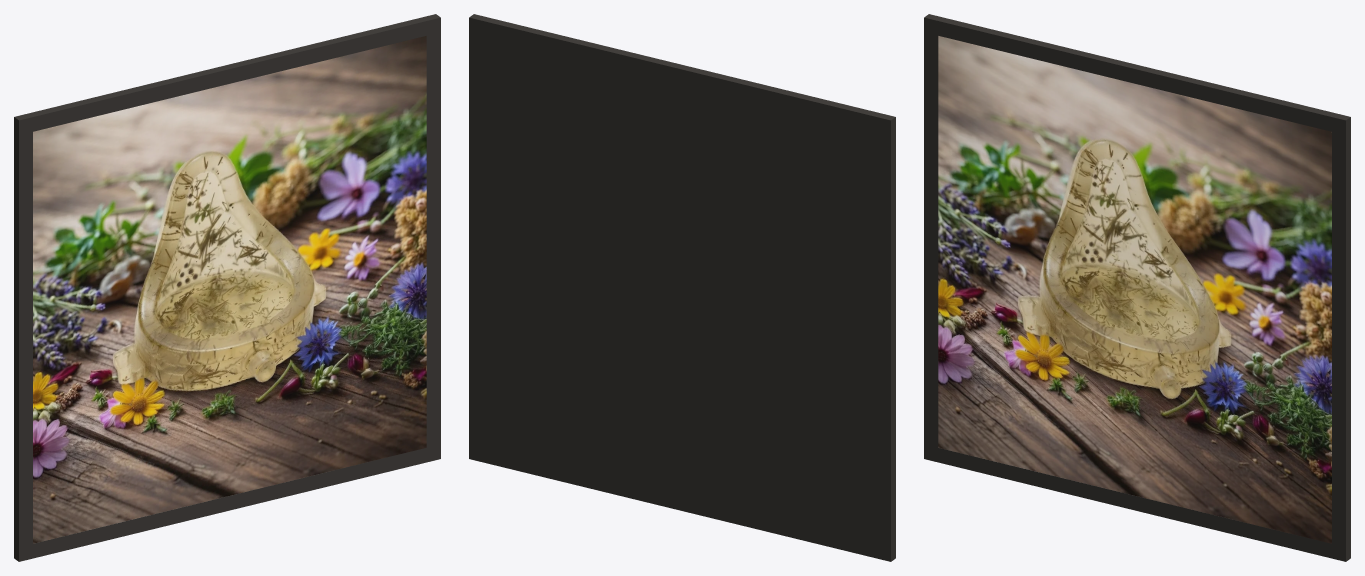
File: picture_08_herb_soap.glb
The picture shows the model from 3 angles, left to right: view 1: azimuth 30°, elevation 25°; view 2: azimuth 150°, elevation 25°; view 3: azimuth 330°, elevation 25°; orthographic projection.
Parts seen in each view (by area): view 1: picture_08_herb_soap_nocol; view 2: picture_08_herb_soap_nocol; view 3: picture_08_herb_soap_nocol.
Part boxes in pixels (x1,y1,x2,y2): picture_08_herb_soap_nocol: (14,14,440,561); picture_08_herb_soap_nocol: (469,14,895,561); picture_08_herb_soap_nocol: (924,14,1350,561).
Bounding box in the file's own units: 1.5 × 1.5 × 0.03.
2 materials, 1 textured.
